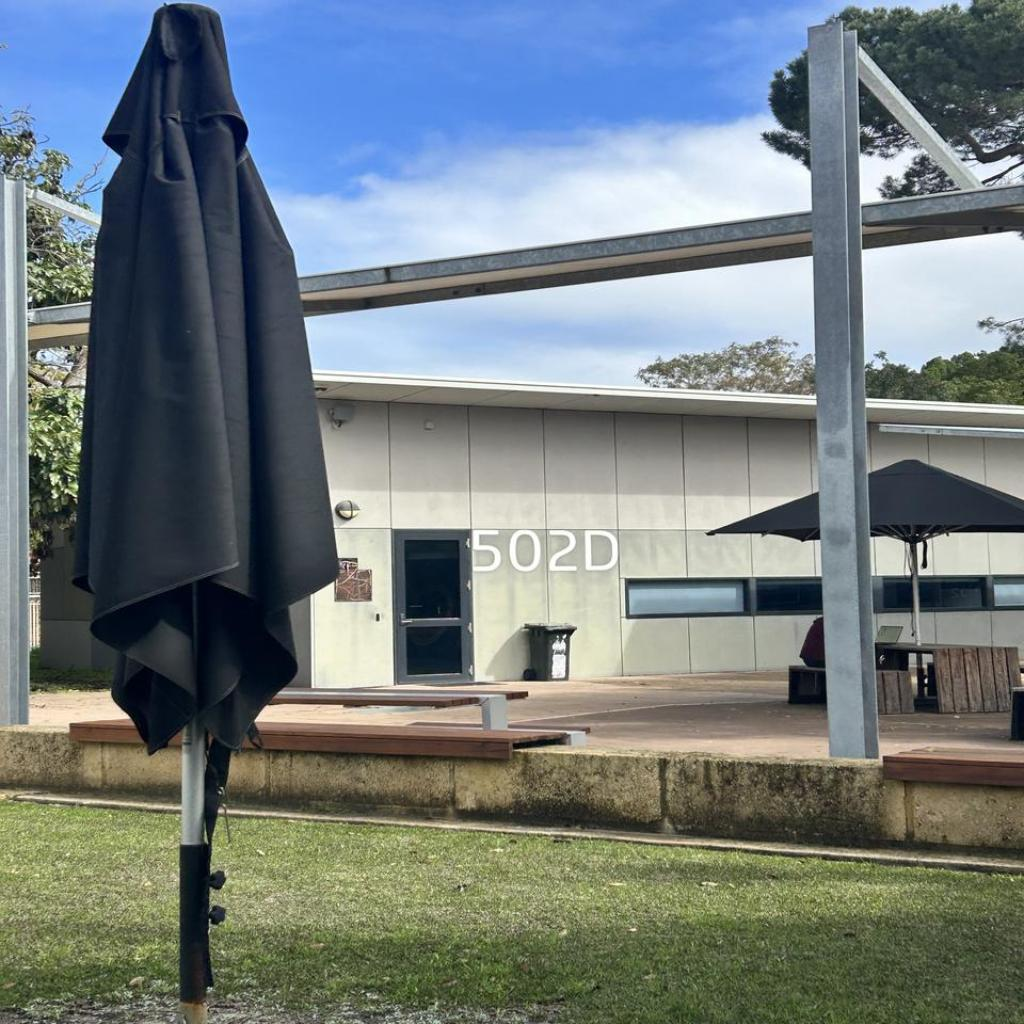BuildingCodes: (470, 528, 620, 574)
